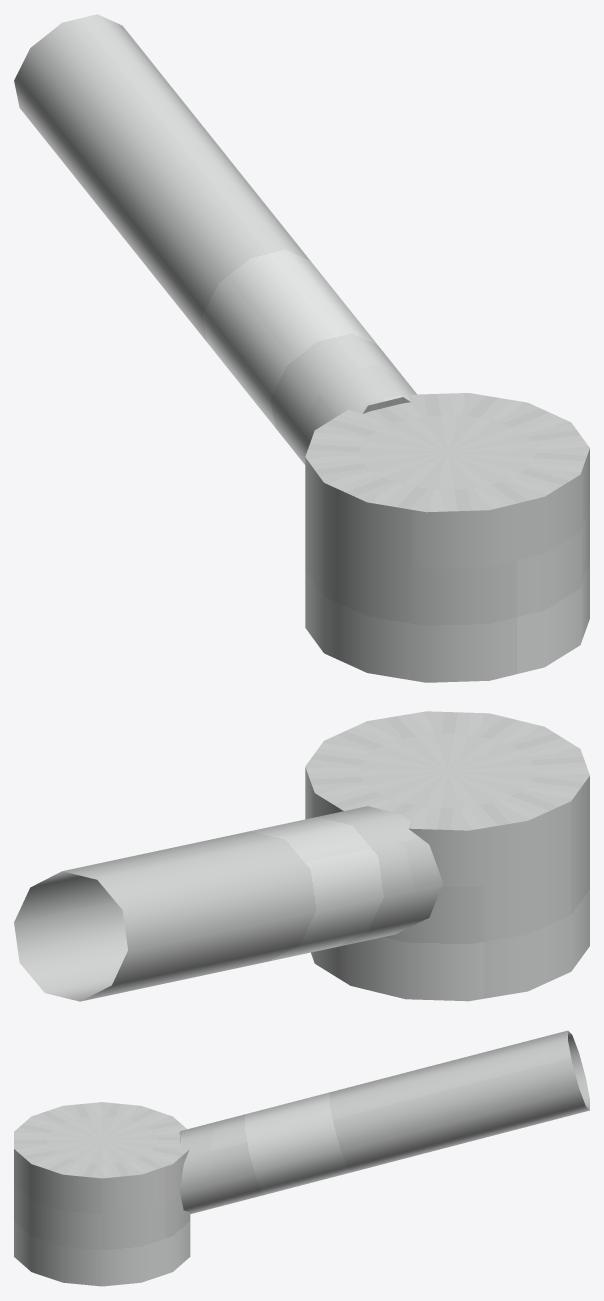
The model's file is trusssignalarm_sloped8_c1_thin.obj.
3 views of the same model, one above another, from view 1: azimuth 30°, elevation 25°; view 2: azimuth 150°, elevation 25°; view 3: azimuth 270°, elevation 25° (orthographic). The views are drawn at different scales.
Parts seen in each view (by area): view 1: trusssignalarm_sloped8_c1_thin; view 2: trusssignalarm_sloped8_c1_thin; view 3: trusssignalarm_sloped8_c1_thin.
Part boxes in pixels (box(x1,y1,x2,y2)): trusssignalarm_sloped8_c1_thin: box(14, 14, 589, 682); trusssignalarm_sloped8_c1_thin: box(14, 711, 589, 1001); trusssignalarm_sloped8_c1_thin: box(14, 1030, 589, 1286).
Bounding box in the file's own units: 0.5688 × 0.7371 × 1.81.
